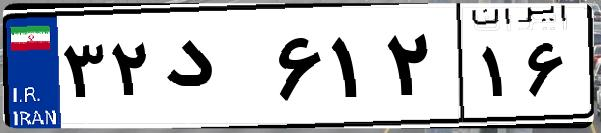1: (330, 28, 385, 110), (475, 38, 525, 113)
2: (385, 28, 445, 110), (110, 28, 158, 98)
3: (57, 26, 110, 100)
6: (270, 28, 330, 110), (525, 38, 570, 115)
د: (158, 20, 270, 120)
